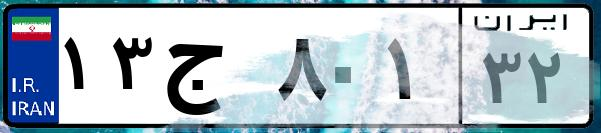0: (330, 28, 385, 110)
1: (385, 28, 445, 110), (57, 26, 110, 100)
2: (525, 38, 570, 115)
3: (475, 38, 525, 113), (110, 28, 158, 98)
8: (270, 28, 330, 110)
ج: (158, 20, 270, 120)
